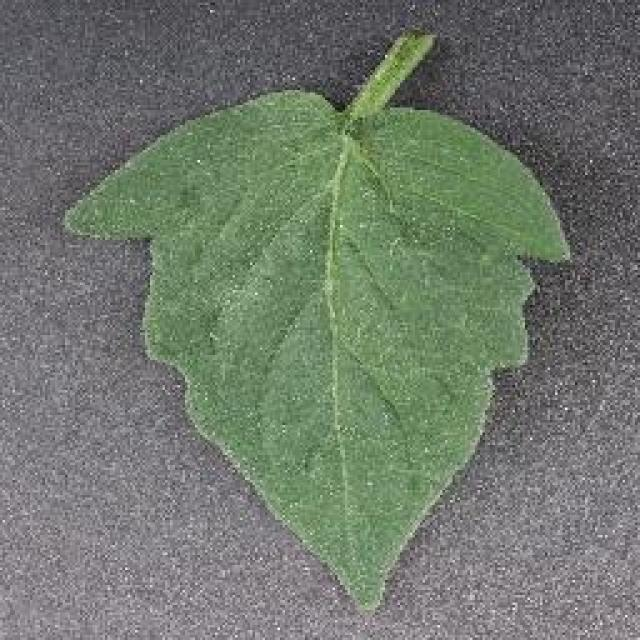healthy: (59, 30, 578, 611)
